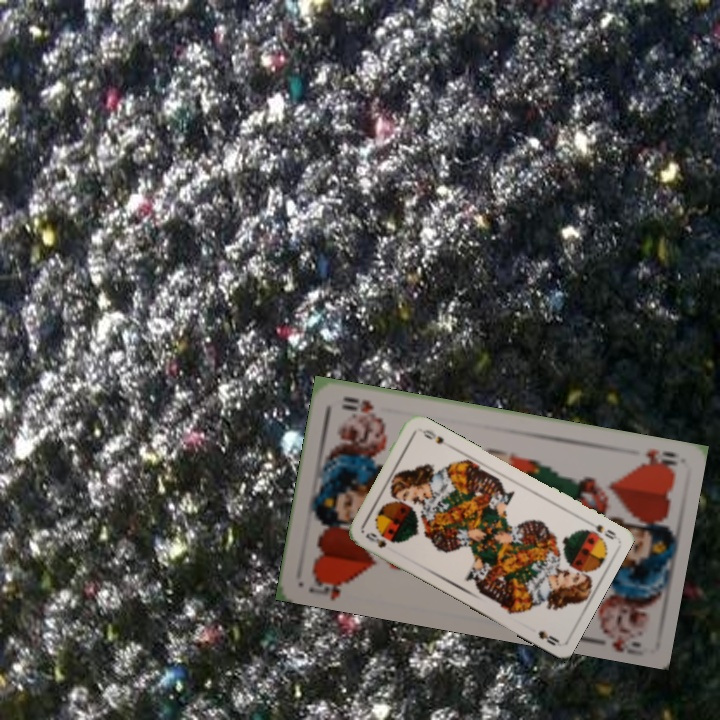HO: (304, 571, 353, 602), (636, 446, 679, 474)
SO: (361, 528, 389, 550), (591, 520, 619, 542)
